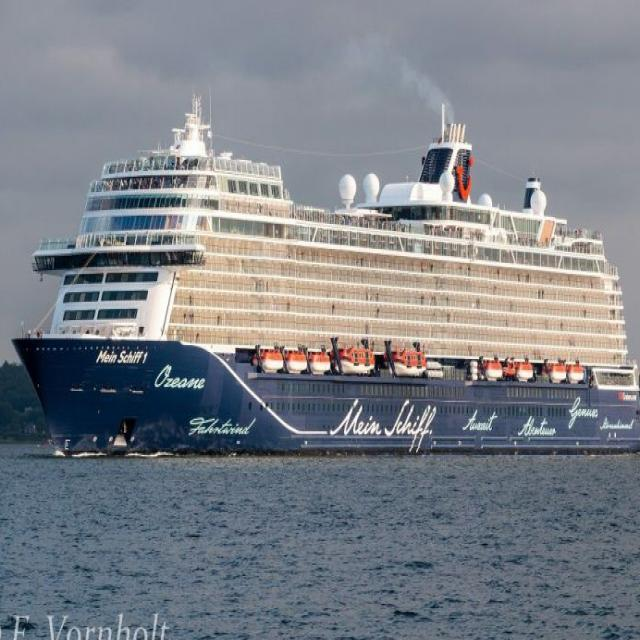cruises: (14, 69, 640, 464)
